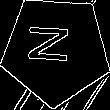N_E: (31, 29, 81, 72)
